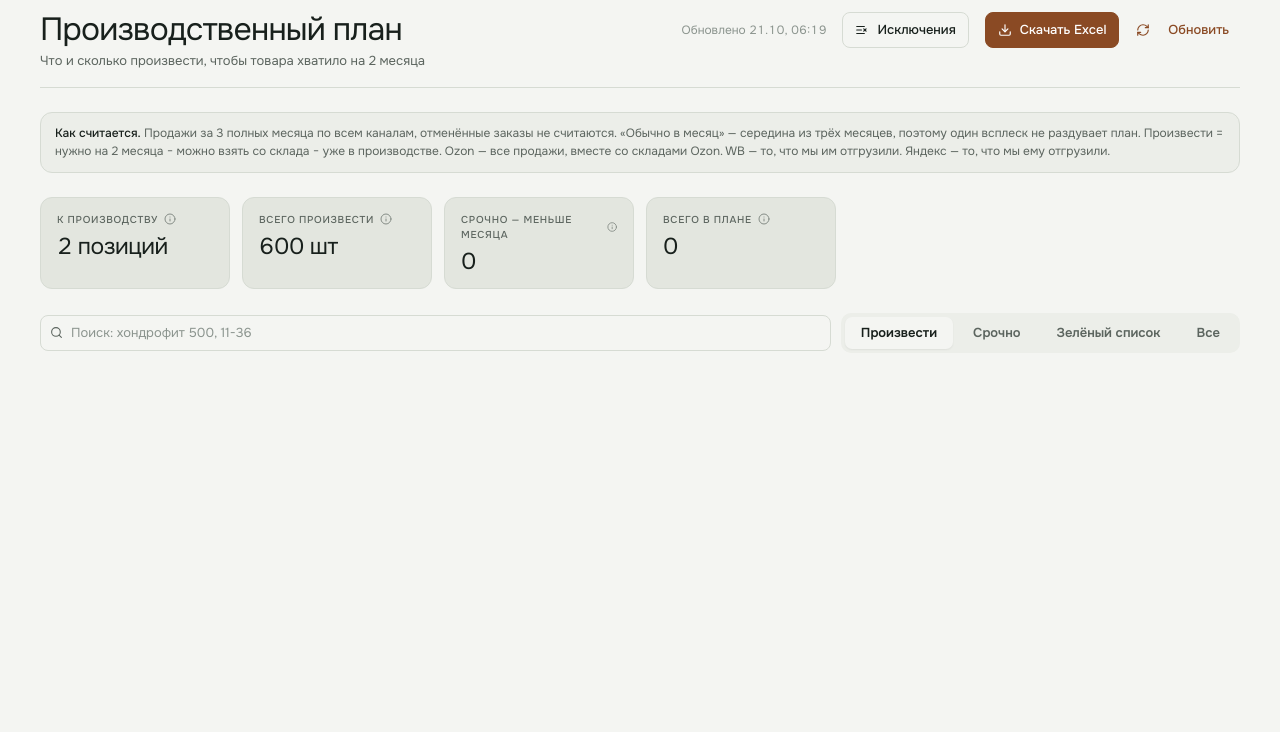
it: Производственный план › после неудачного обновления перечитывает план и показывает причину
The width and height of the screenshot is (1280, 732).
Click the button "Обновить".
click(1188, 30)  # box [1135, 19, 1240, 40]
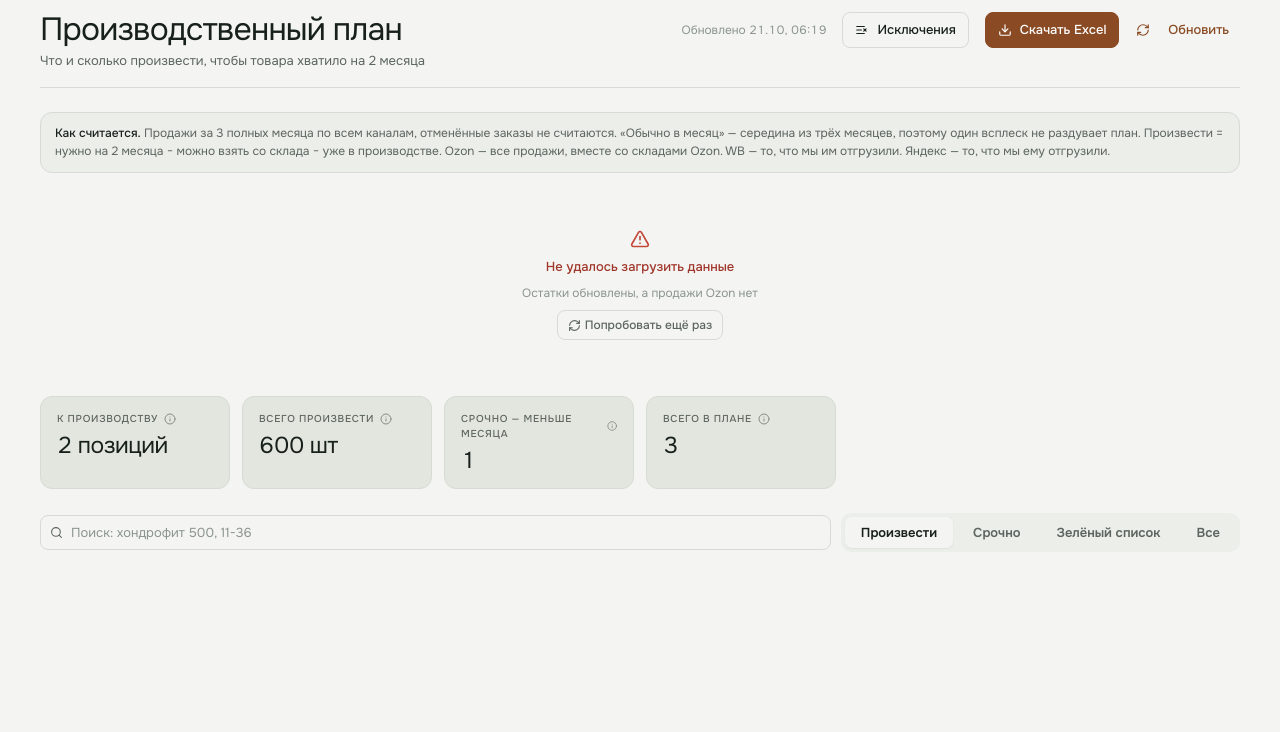
Check: the text "Остатки обновлены, а продажи Ozon нет" is shown, box [522, 284, 758, 302]
